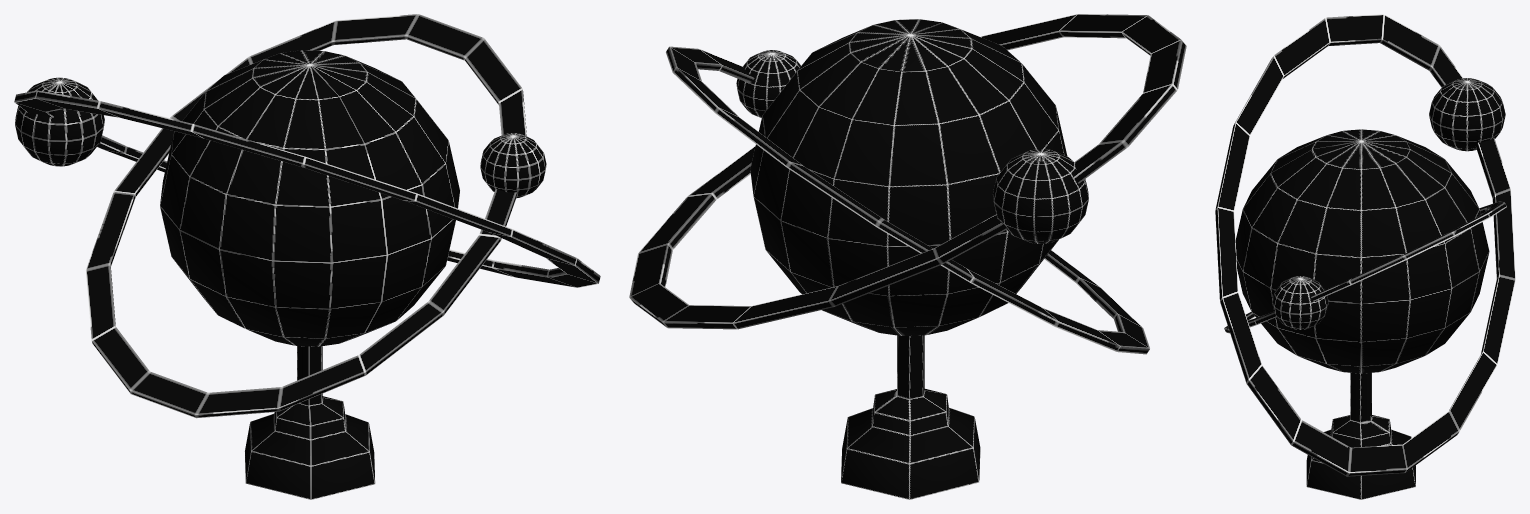
3 views of the same model, side by side, from view 1: azimuth 30°, elevation 25°; view 2: azimuth 150°, elevation 25°; view 3: azimuth 270°, elevation 25° (orthographic). The views are drawn at different scales.
Visible parts, largest first — view 1: DD_14; view 2: DD_14; view 3: DD_14.
Part boxes in pixels (box(x1,y1,x2,y2)): DD_14: box(14, 14, 600, 499); DD_14: box(629, 14, 1186, 499); DD_14: box(1215, 14, 1515, 499).
Bounding box in the file's own units: 2500 × 2000 × 1500.
Materials: 1 (1 with a texture image).
